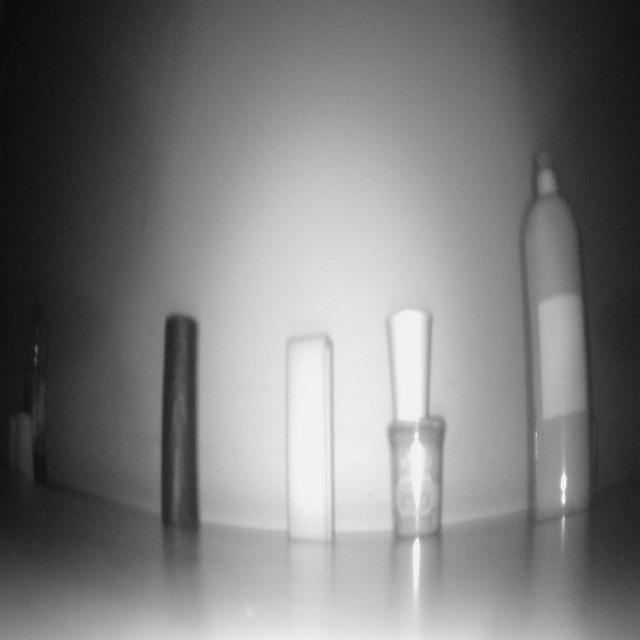targets: (524, 138, 596, 526), (284, 336, 334, 538), (162, 312, 198, 534), (389, 421, 445, 536), (21, 300, 55, 486), (386, 307, 430, 422), (8, 406, 32, 485)
